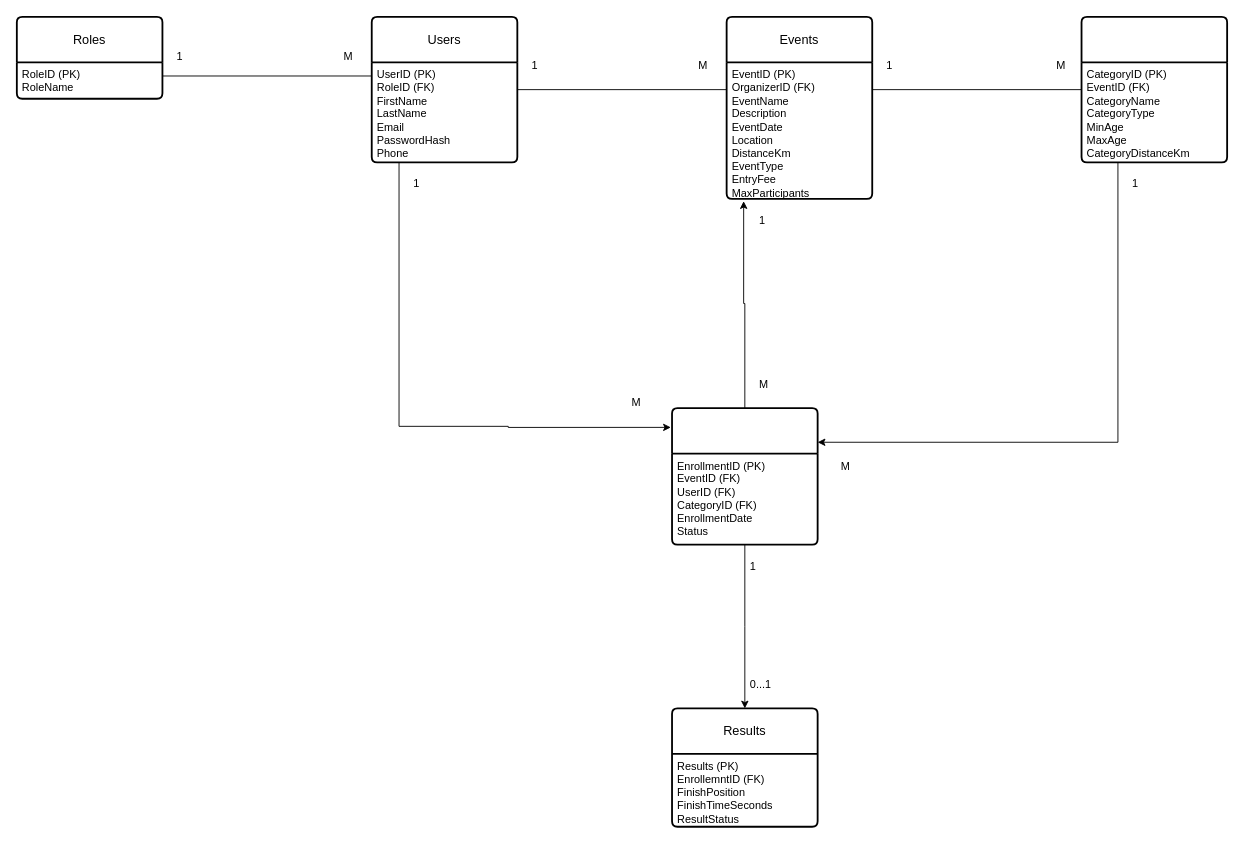
Some shapes in this 1243 by 843 pixel diagram are drawn without their labels. Here are the shapes that lost their labels. From the top down, the box of each, then its label:
(1080, 15, 1228, 163): Categories
(671, 407, 818, 545): EventEnrollments
